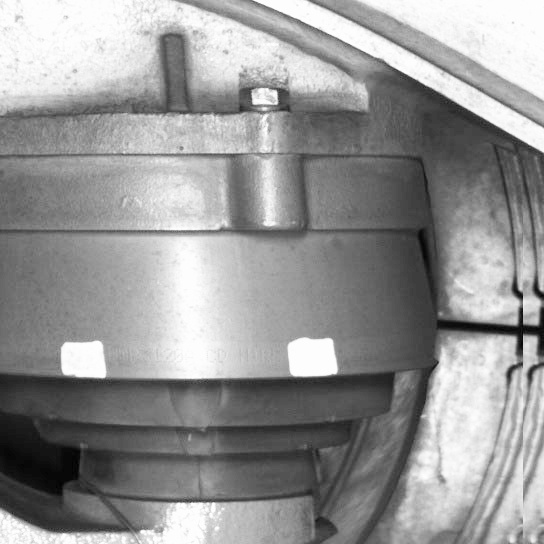ClosedKnifeSwitch: (303, 157, 520, 541)
